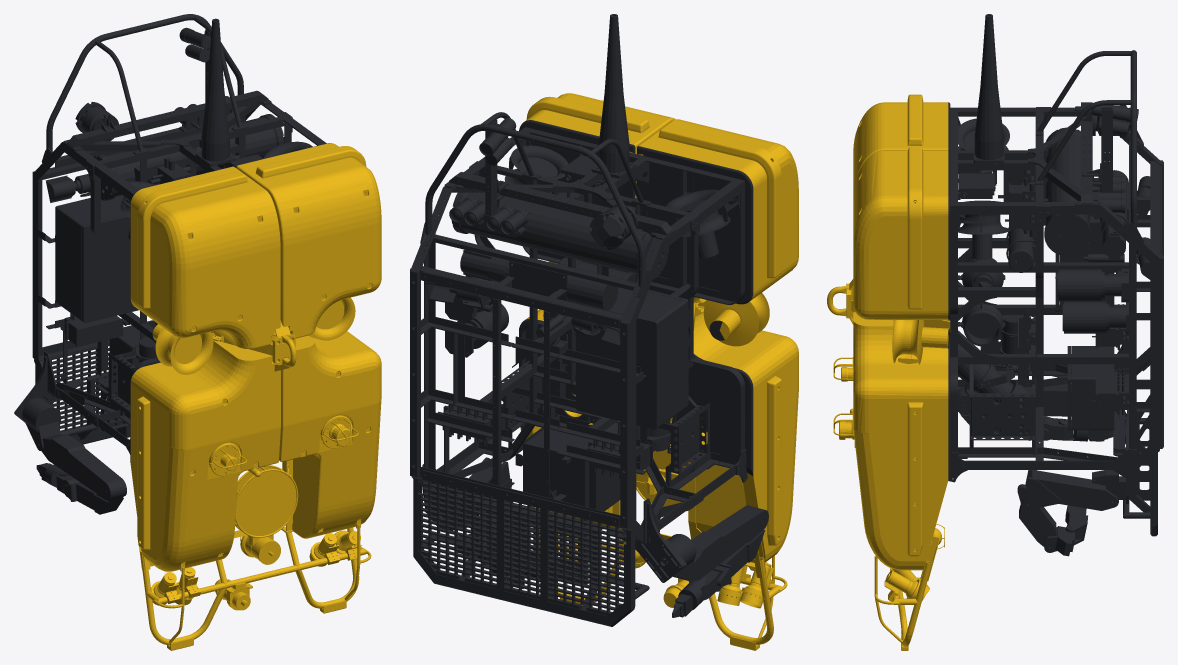
File: hercules.obj
3 renders of one model, left to right at view 1: azimuth 30°, elevation 25°; view 2: azimuth 150°, elevation 25°; view 3: azimuth 270°, elevation 25°, orthographic. The views are drawn at different scales.
Visible parts, largest first — view 1: buoyancy, frame; view 2: frame, buoyancy; view 3: frame, buoyancy.
Boxes of the visible parts, box(x1,y1,x2,y2) form: buoyancy: box(130, 143, 381, 650); frame: box(14, 14, 331, 514); frame: box(410, 14, 768, 626); buoyancy: box(520, 93, 798, 650); frame: box(948, 14, 1163, 556); buoyancy: box(827, 94, 950, 650).
Bounding box in the file's own units: 1.88 × 4.27 × 2.2.
